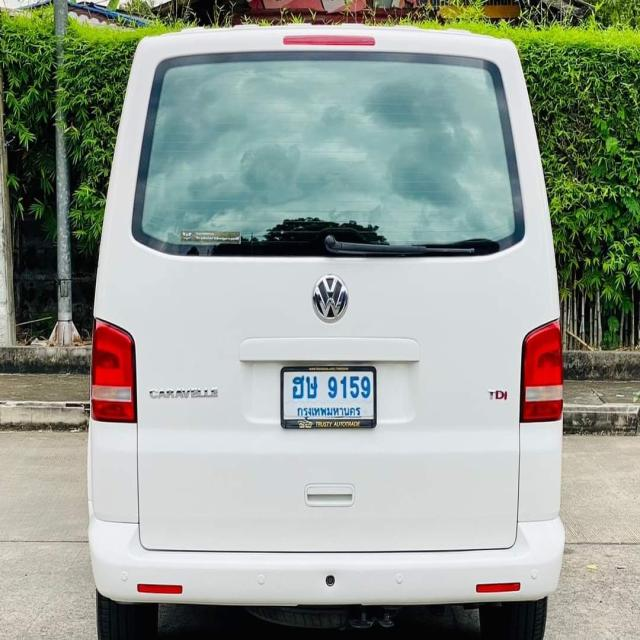license_plate: (280, 362, 380, 433)
